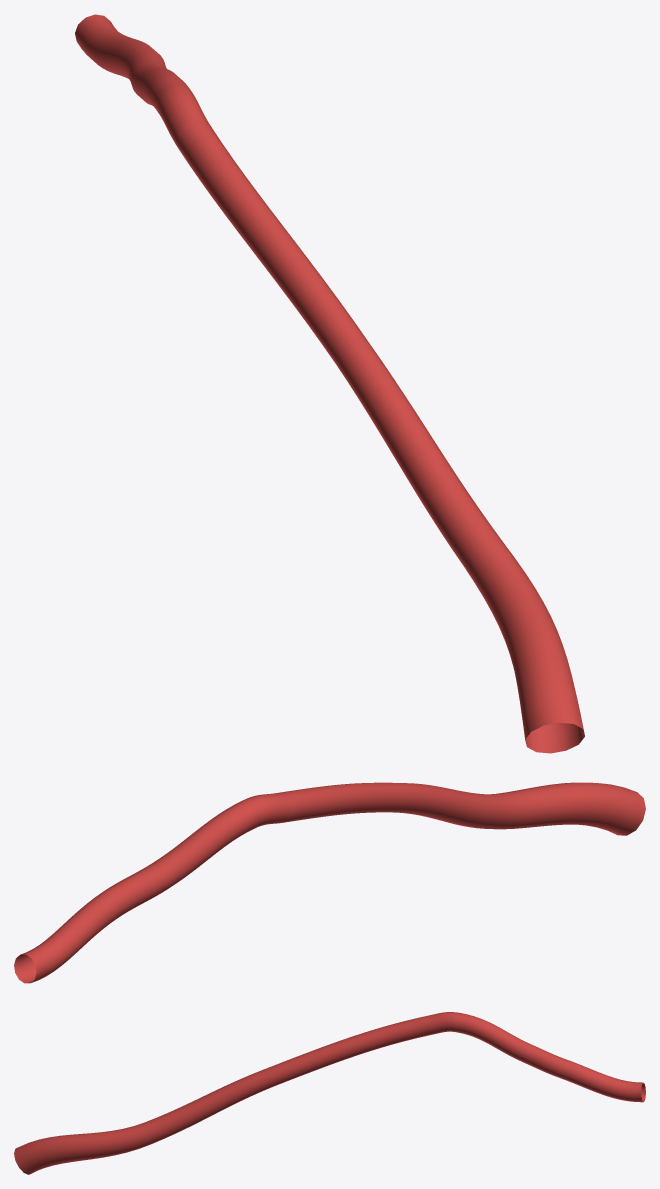
3 renders of one model, top to bottom at view 1: azimuth 30°, elevation 25°; view 2: azimuth 150°, elevation 25°; view 3: azimuth 270°, elevation 25°, orthographic. The views are drawn at different scales.
Visible parts, largest first — view 1: 左侧腘动脉; view 2: 左侧腘动脉; view 3: 左侧腘动脉.
Part boxes in pixels (x1=…): 左侧腘动脉: x1=75, y1=14, x2=584, y2=753; 左侧腘动脉: x1=14, y1=782, x2=645, y2=983; 左侧腘动脉: x1=14, y1=1012, x2=645, y2=1174.
Size of the model in its own units: 0.0517 by 0.085 by 0.2829.
